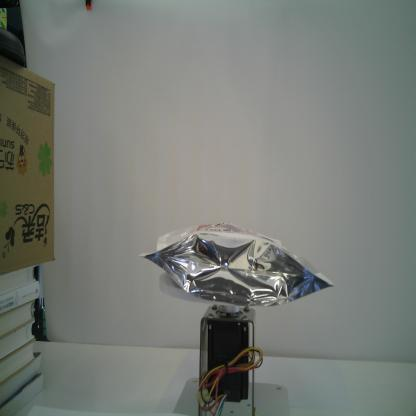Dried Food: (137, 215, 336, 309)
